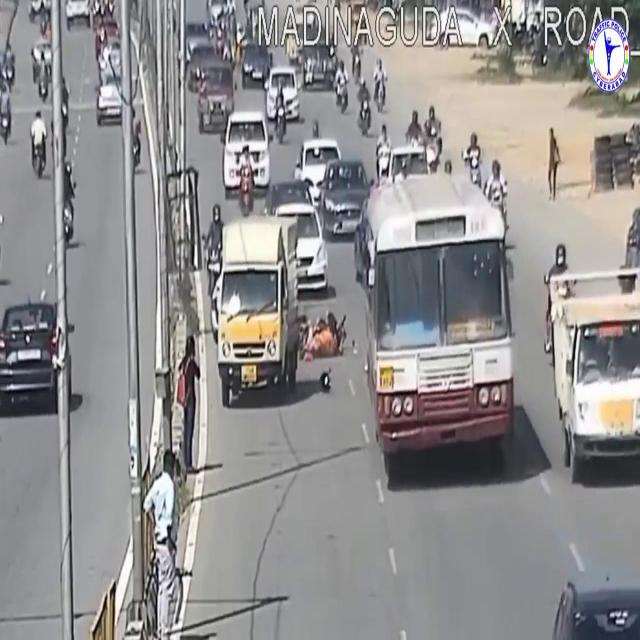accident: (298, 287, 354, 400)
non_accident: (173, 10, 376, 248), (64, 1, 124, 150)
